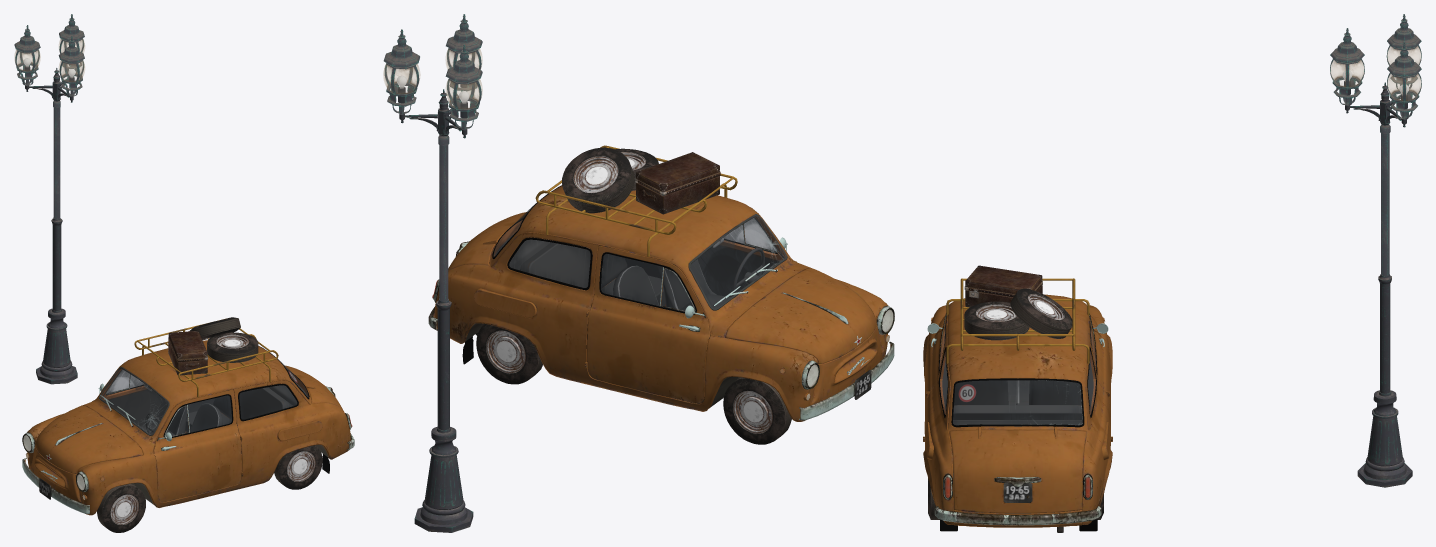
Rendered from car-transformed.glb.
3 views of the same model, side by side, from view 1: azimuth 30°, elevation 25°; view 2: azimuth 150°, elevation 25°; view 3: azimuth 270°, elevation 25° (orthographic). The views are drawn at different scales.
Parts seen in each view (by area): view 1: car_body_body_0, car_body_glass_0, wheel_00_wheels_0, door_left_interior_0, vintage_lantern_7_base_lantern_wall_base_2_0, vintage_lantern_7_lantern_wall_base_1_0, chest_base_chest_0, vintage_lantern_glass_7_lantern_wall_glass_1_0, car_body_rubber_0; view 2: car_body_body_0, car_body_glass_0, wheel_00_wheels_0, door_left_interior_0, vintage_lantern_7_base_lantern_wall_base_2_0, vintage_lantern_7_lantern_wall_base_1_0, chest_base_chest_0, vintage_lantern_glass_7_lantern_wall_glass_1_0, car_body_rubber_0; view 3: car_body_body_0, car_body_glass_0, door_left_interior_0, vintage_lantern_7_base_lantern_wall_base_2_0, vintage_lantern_7_lantern_wall_base_1_0, wheel_00_wheels_0, chest_base_chest_0, car_body_rubber_0, vintage_lantern_glass_7_lantern_wall_glass_1_0.
Boxes of the visible parts, bbox=[...] form: car_body_body_0: bbox=[22, 318, 354, 515]; car_body_glass_0: bbox=[100, 359, 308, 435]; wheel_00_wheels_0: bbox=[97, 317, 322, 532]; door_left_interior_0: bbox=[100, 369, 308, 501]; vintage_lantern_7_base_lantern_wall_base_2_0: bbox=[25, 68, 77, 384]; vintage_lantern_7_lantern_wall_base_1_0: bbox=[14, 14, 84, 218]; chest_base_chest_0: bbox=[168, 330, 207, 375]; vintage_lantern_glass_7_lantern_wall_glass_1_0: bbox=[14, 38, 84, 81]; car_body_rubber_0: bbox=[106, 346, 349, 473]; car_body_body_0: bbox=[428, 145, 894, 421]; car_body_glass_0: bbox=[493, 203, 785, 310]; wheel_00_wheels_0: bbox=[476, 147, 791, 444]; door_left_interior_0: bbox=[493, 216, 785, 403]; vintage_lantern_7_base_lantern_wall_base_2_0: bbox=[399, 89, 473, 532]; vintage_lantern_7_lantern_wall_base_1_0: bbox=[383, 14, 482, 301]; chest_base_chest_0: bbox=[635, 152, 720, 214]; vintage_lantern_glass_7_lantern_wall_glass_1_0: bbox=[383, 48, 482, 109]; car_body_rubber_0: bbox=[435, 185, 777, 403]; car_body_body_0: bbox=[923, 278, 1112, 532]; car_body_glass_0: bbox=[939, 321, 1096, 425]; door_left_interior_0: bbox=[939, 323, 1096, 427]; vintage_lantern_7_base_lantern_wall_base_2_0: bbox=[1345, 82, 1412, 487]; vintage_lantern_7_lantern_wall_base_1_0: bbox=[1330, 14, 1421, 276]; wheel_00_wheels_0: bbox=[928, 288, 1103, 519]; chest_base_chest_0: bbox=[964, 265, 1042, 307]; car_body_rubber_0: bbox=[938, 314, 1097, 531]; vintage_lantern_glass_7_lantern_wall_glass_1_0: bbox=[1330, 46, 1421, 100].
Size of what is drawn, in the model's own units: 329 by 383 by 386.
Materials: 12 (10 with a texture image).
